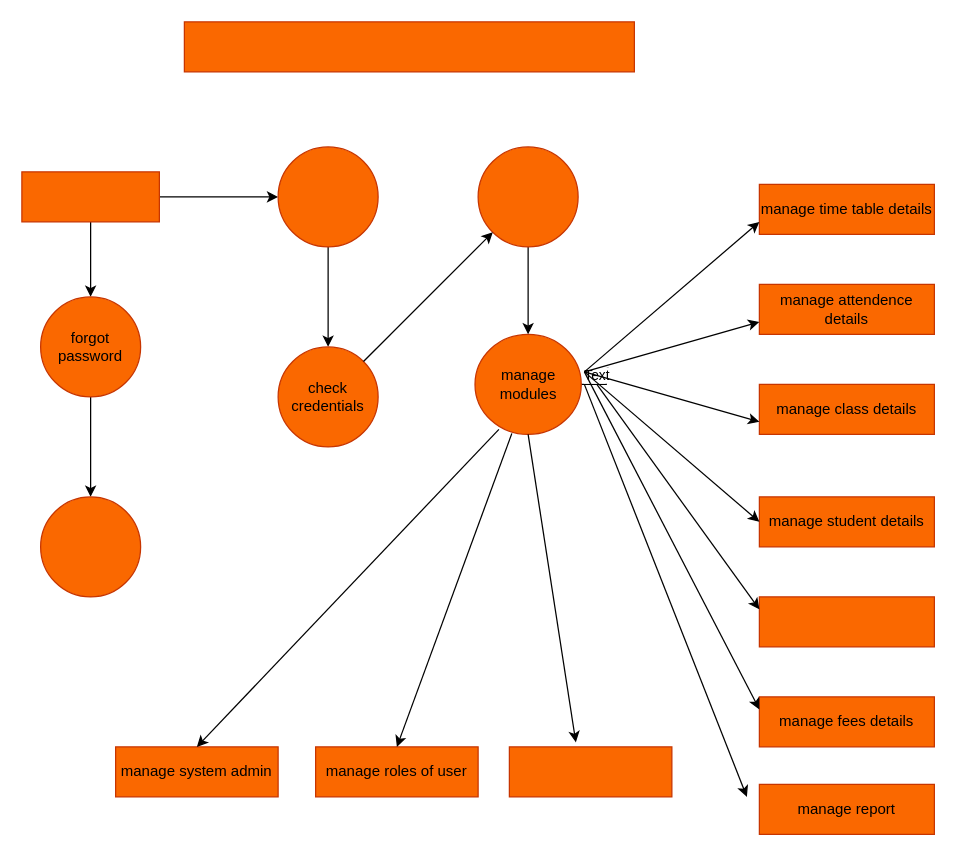
This 956x856 diagram has some shape labels left out. The shapes that lost their labels are listed below. From the top down, each one's box as (x1, y1, x2, y2) in pixels, then its label:
(183, 21, 634, 72): student information system
(21, 171, 159, 222): Admin
(277, 146, 378, 247): login to system
(477, 146, 578, 247): check roles of access
(39, 496, 141, 597): send email to user
(758, 596, 934, 647): manage teacher profile
